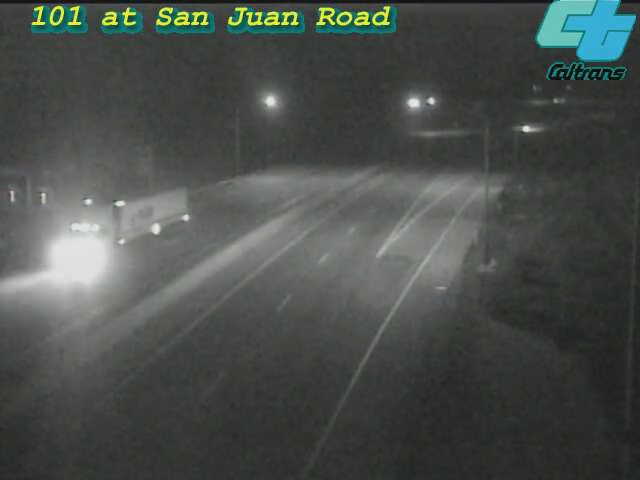vehicle: (83, 186, 163, 266), (501, 104, 551, 154)
